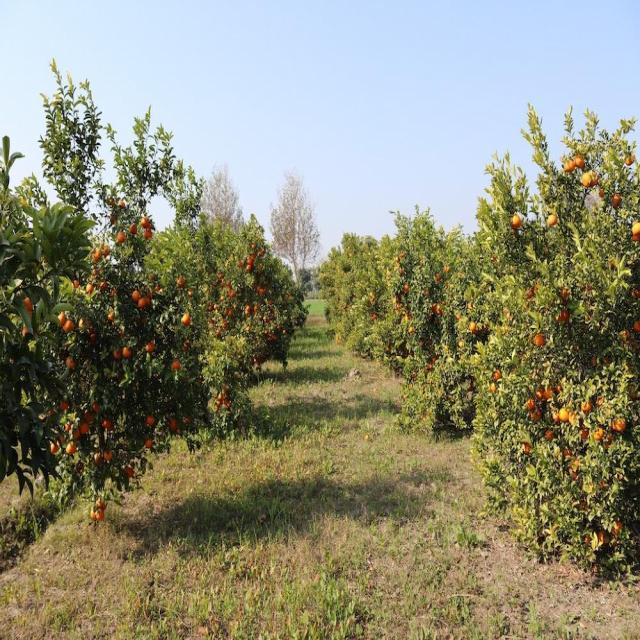Jeruk Sudah Matang: (631, 221, 640, 240), (556, 308, 568, 322), (582, 172, 592, 188), (78, 316, 88, 331), (531, 408, 541, 422), (512, 214, 520, 230), (564, 159, 574, 171), (536, 334, 546, 346), (568, 412, 578, 424), (616, 419, 626, 431), (593, 428, 603, 440), (67, 442, 76, 455), (85, 409, 94, 422), (545, 429, 554, 442), (590, 172, 598, 186), (612, 194, 620, 208), (64, 321, 74, 332), (124, 466, 133, 478), (560, 409, 568, 422), (492, 368, 500, 381), (58, 400, 68, 410), (625, 154, 635, 164), (22, 326, 31, 337), (575, 155, 584, 166), (94, 249, 101, 263), (560, 284, 567, 298), (104, 450, 112, 462), (582, 401, 590, 413), (536, 388, 544, 400), (546, 388, 554, 400), (614, 522, 622, 534), (66, 358, 75, 368), (112, 350, 121, 360), (548, 214, 557, 224), (570, 458, 578, 469), (58, 314, 65, 326), (562, 448, 571, 457), (96, 510, 104, 520), (80, 423, 88, 433), (146, 416, 154, 426), (598, 532, 606, 542), (51, 443, 58, 454), (173, 358, 180, 369), (178, 277, 185, 288), (582, 428, 589, 439), (25, 297, 31, 309), (118, 233, 126, 242), (144, 230, 152, 239), (133, 290, 139, 302), (98, 497, 104, 509), (103, 419, 110, 429), (146, 440, 153, 450), (100, 278, 106, 289), (528, 398, 534, 409), (146, 343, 154, 351), (633, 321, 640, 330), (142, 218, 148, 228), (104, 244, 110, 254), (90, 510, 96, 520), (118, 201, 124, 211), (145, 296, 151, 306), (492, 384, 498, 394), (130, 224, 137, 232), (183, 315, 190, 323), (183, 340, 190, 348), (469, 323, 476, 331), (86, 284, 92, 293), (139, 298, 145, 307), (108, 312, 114, 321), (524, 444, 530, 452), (124, 348, 130, 355), (170, 421, 176, 428), (222, 387, 227, 395), (599, 190, 604, 197), (74, 280, 78, 288), (247, 264, 251, 272), (445, 266, 450, 272), (66, 425, 70, 432), (252, 254, 256, 261), (409, 327, 413, 334), (223, 310, 228, 315), (111, 215, 115, 221), (188, 290, 192, 296), (228, 310, 232, 316), (222, 322, 226, 328), (222, 399, 226, 405), (254, 305, 258, 311), (262, 288, 266, 294), (216, 329, 220, 335), (404, 285, 408, 291), (218, 394, 222, 399), (214, 304, 218, 309), (268, 300, 272, 305), (227, 280, 230, 286), (436, 274, 439, 280), (220, 296, 224, 300), (282, 330, 286, 334), (257, 252, 261, 256), (219, 274, 223, 278), (248, 259, 251, 264), (247, 305, 250, 310), (239, 262, 242, 267), (218, 400, 220, 406), (228, 290, 231, 294), (228, 402, 231, 406), (246, 311, 249, 315), (258, 286, 260, 292), (262, 248, 265, 252), (260, 288, 262, 293), (247, 327, 250, 330), (252, 244, 254, 248)
